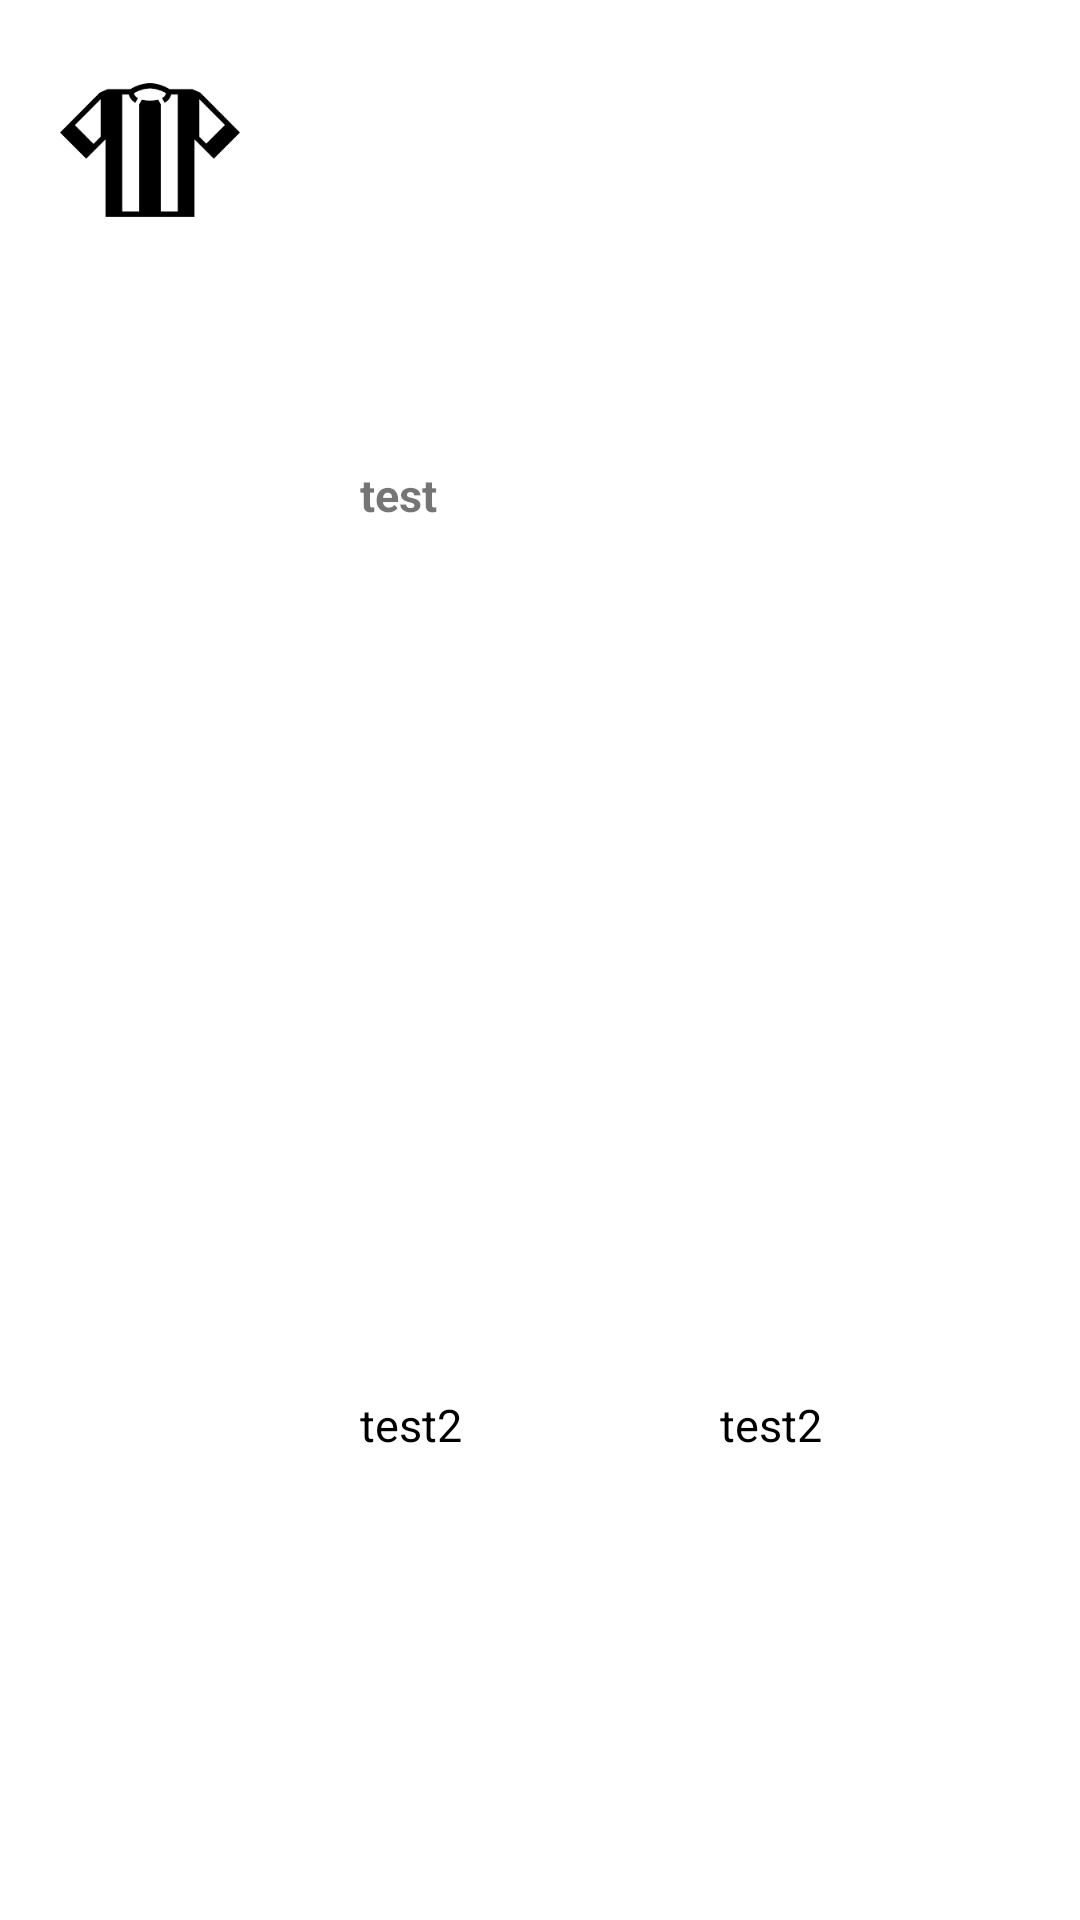

Point at icon controls on the screen. Image size 1080 × 1920, points as (x,y).
team: (150,150)
